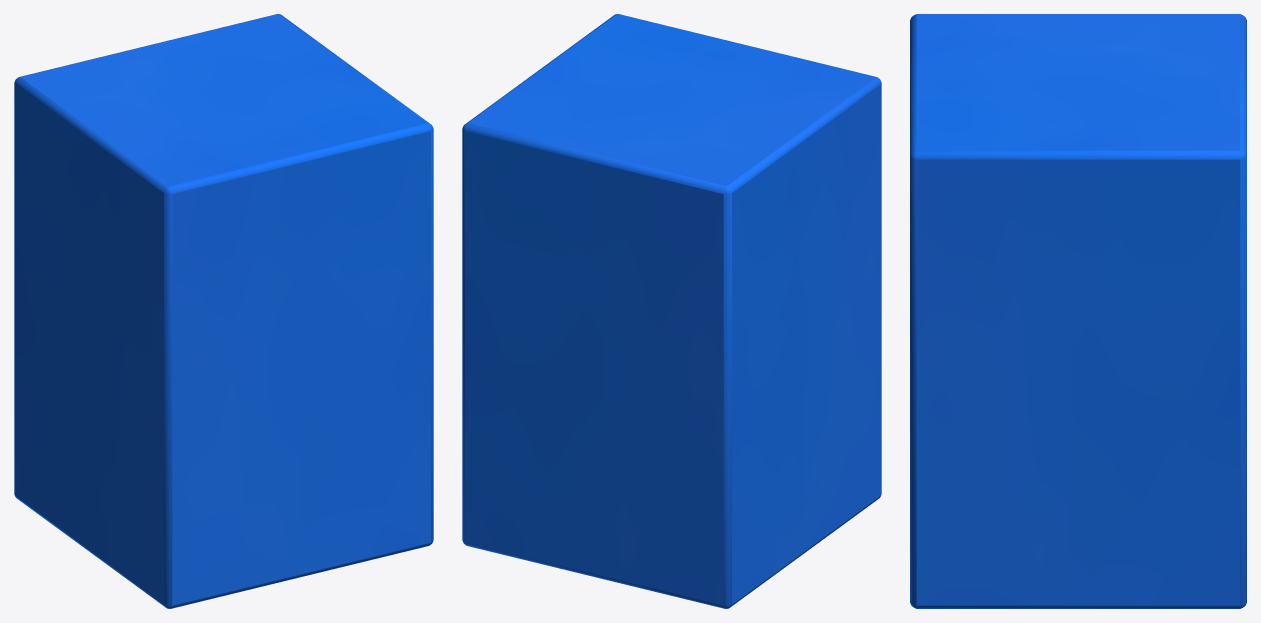
The model's file is CuboidBlue.fbx.
3 renders of one model, left to right at view 1: azimuth 30°, elevation 25°; view 2: azimuth 150°, elevation 25°; view 3: azimuth 270°, elevation 25°, orthographic. The views are drawn at different scales.
Visible parts, largest first — view 1: Cube; view 2: Cube; view 3: Cube.
Part boxes in pixels (<box>): Cube: <box>14,14,433,608</box>; Cube: <box>462,14,881,608</box>; Cube: <box>910,14,1246,608</box>.
Bounding box in the file's own units: 2 × 3 × 2.
